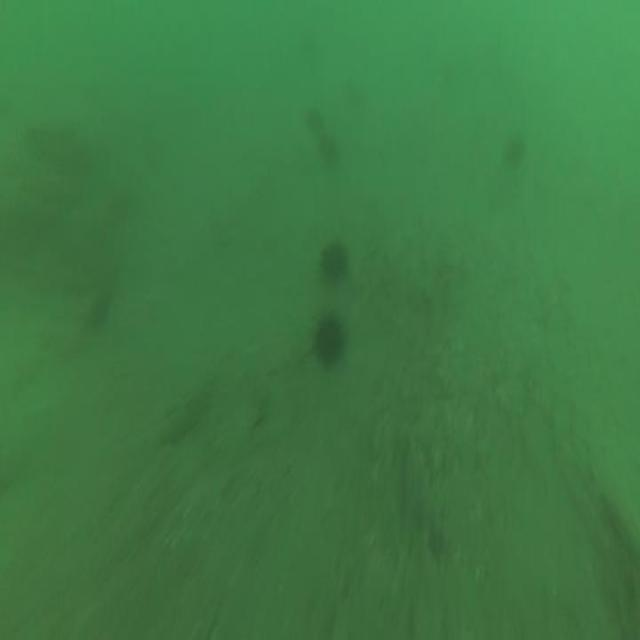echinus: (317, 318, 344, 365), (320, 242, 347, 281)
